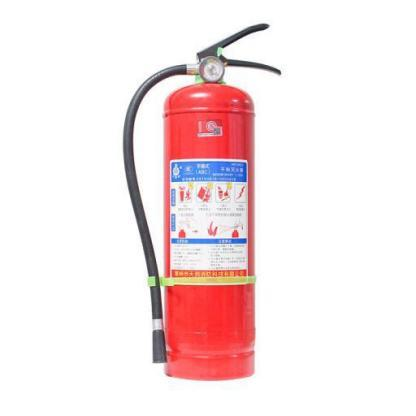Fire Extinguisher: (111, 16, 289, 398)
